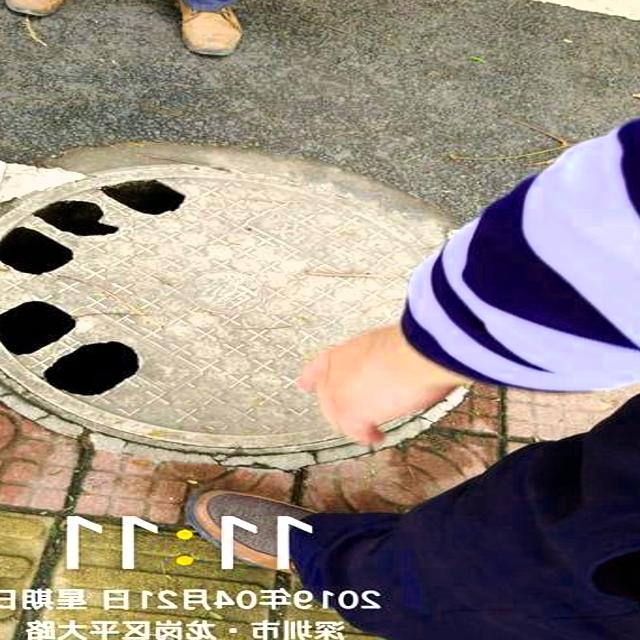broke: (0, 141, 534, 480)
